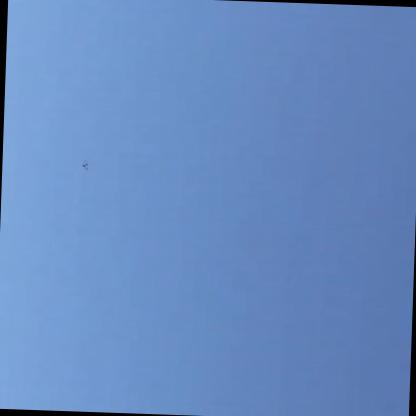plane: (81, 161, 89, 172)
